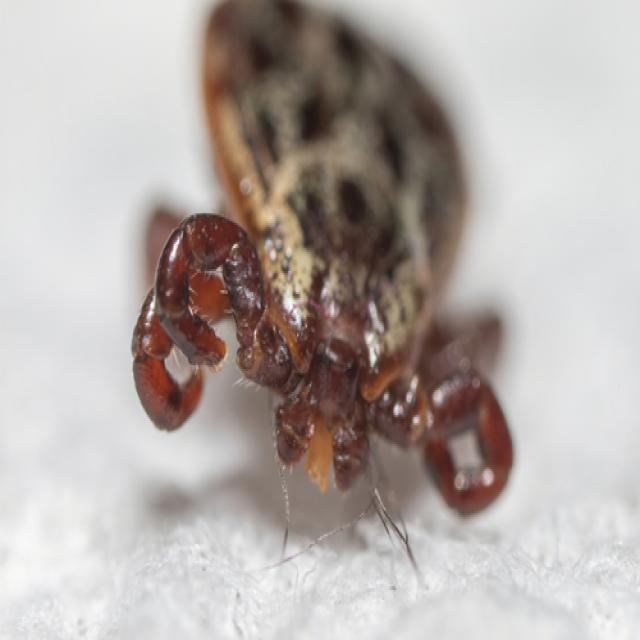Dermacentor Reticulatus-M: (136, 0, 515, 519)
